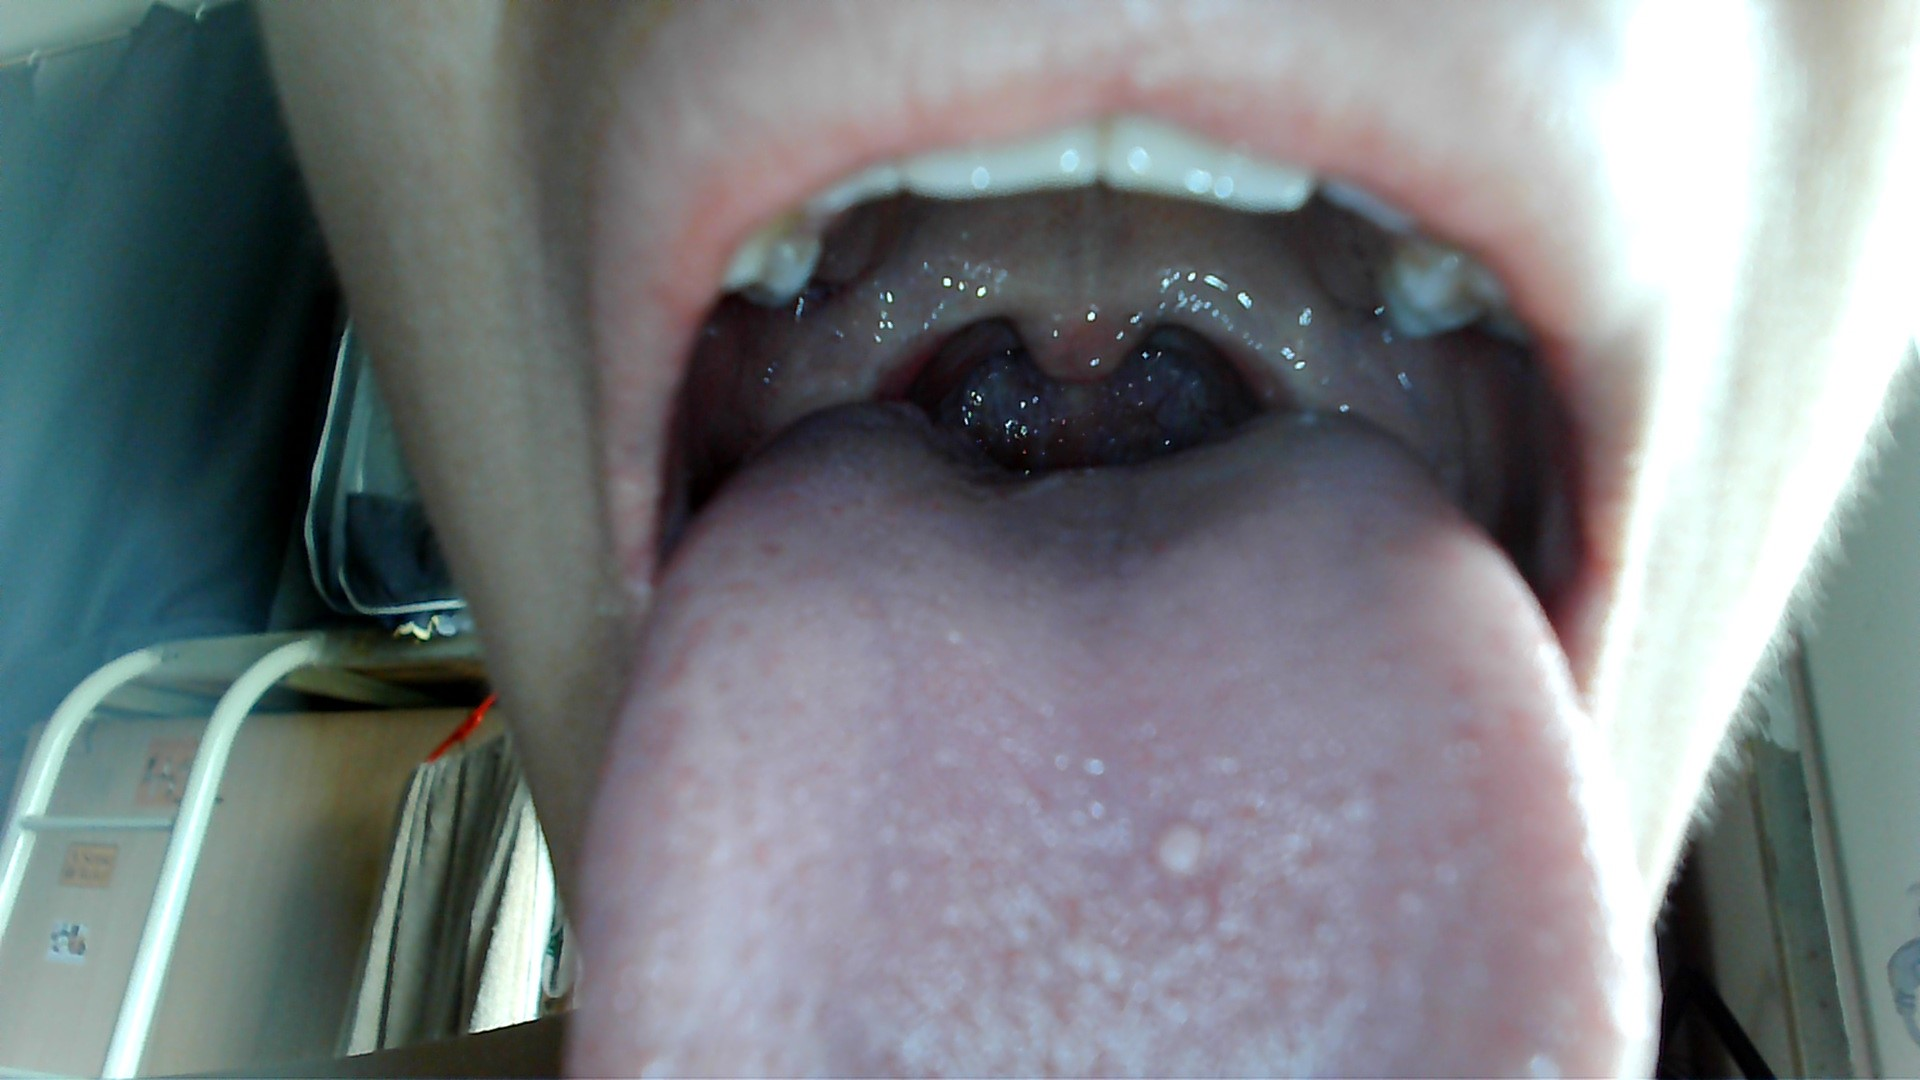throat: (1211, 305, 1354, 415), (814, 295, 953, 404)
